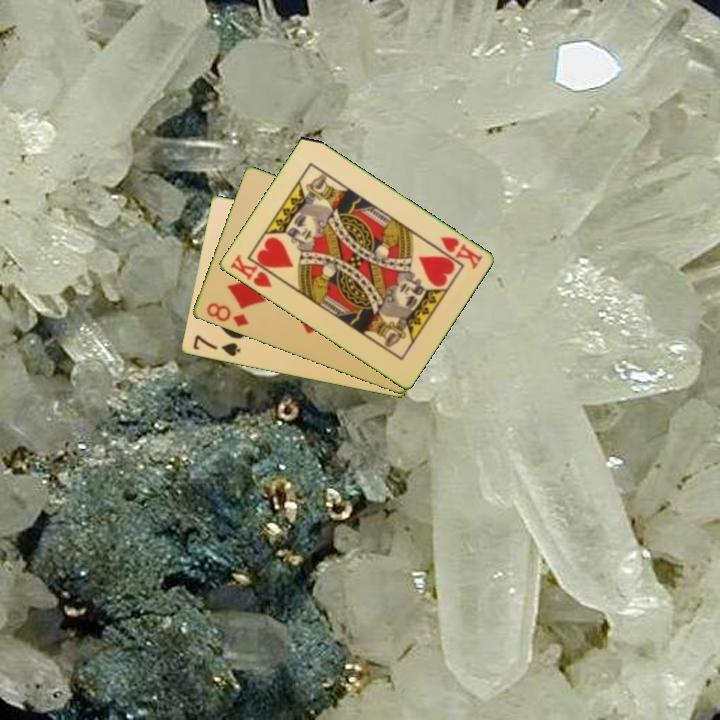7s: (189, 332, 243, 359)
8d: (203, 299, 251, 330)
Kh: (226, 251, 282, 291), (437, 233, 485, 272)
